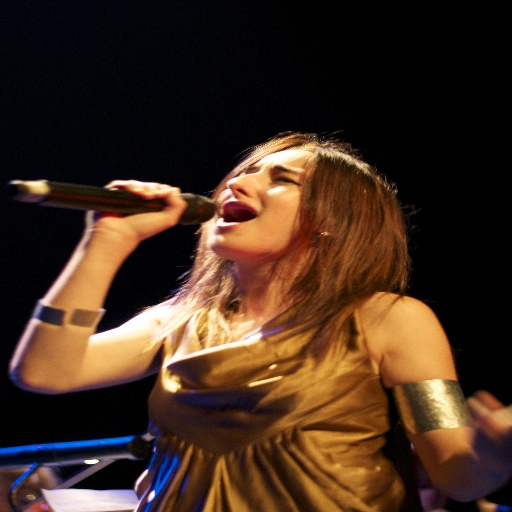hand: (4, 170, 181, 413), (462, 388, 511, 437)
